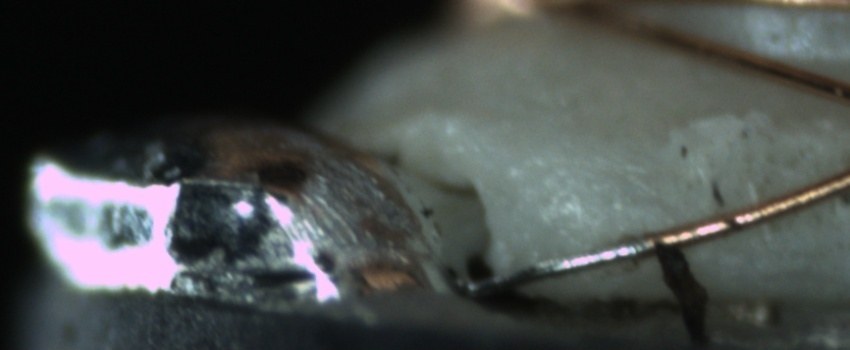TS: (459, 234, 645, 294)
